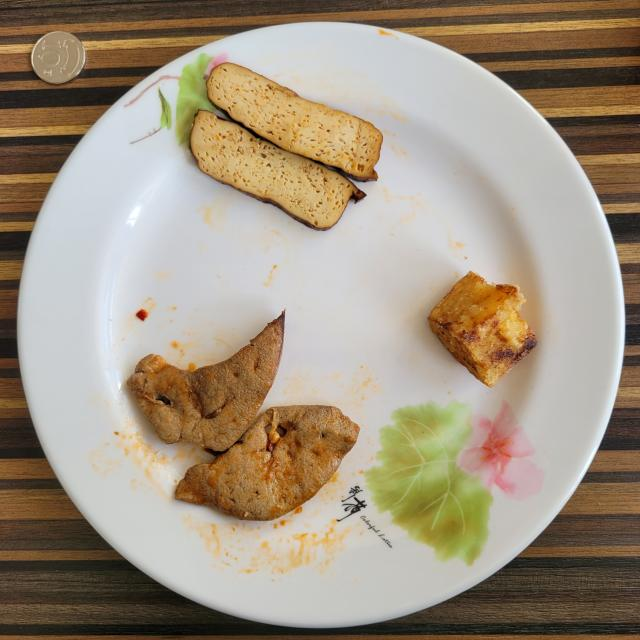coin: (31, 31, 86, 84)
firm tofu: (190, 62, 382, 230)
fried potato: (428, 271, 536, 388)
pig liver: (128, 314, 359, 521)
